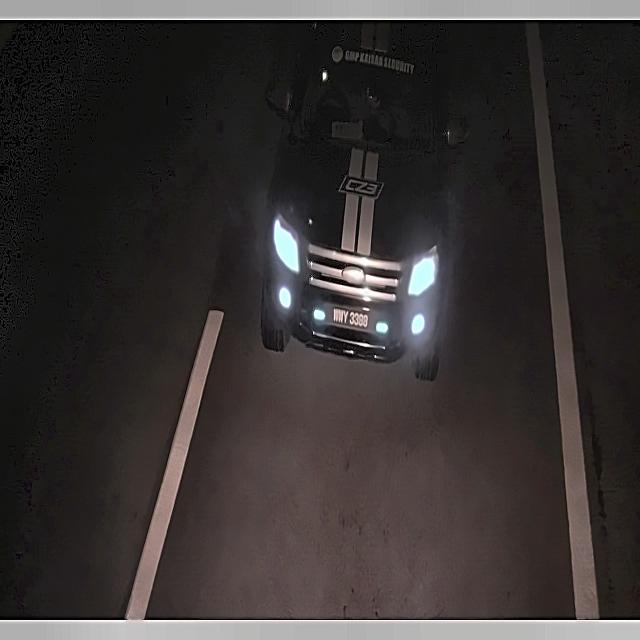car: (330, 296, 370, 336)
